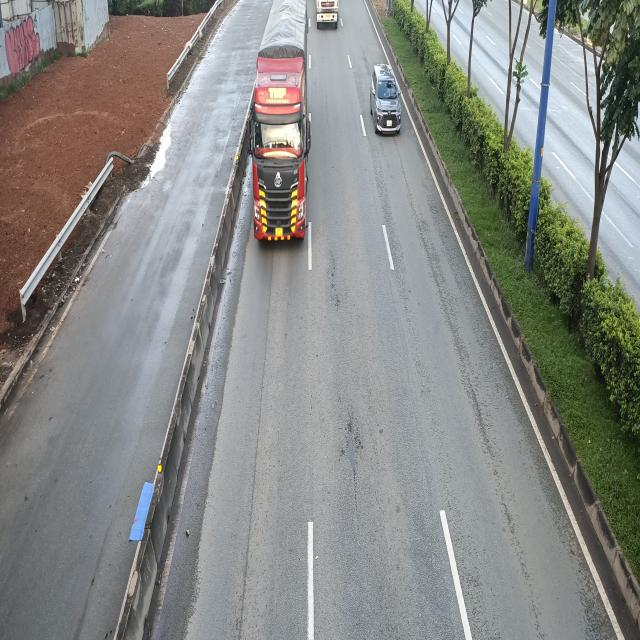car: (372, 64, 402, 135)
container: (246, 2, 313, 246), (316, 0, 341, 26)
